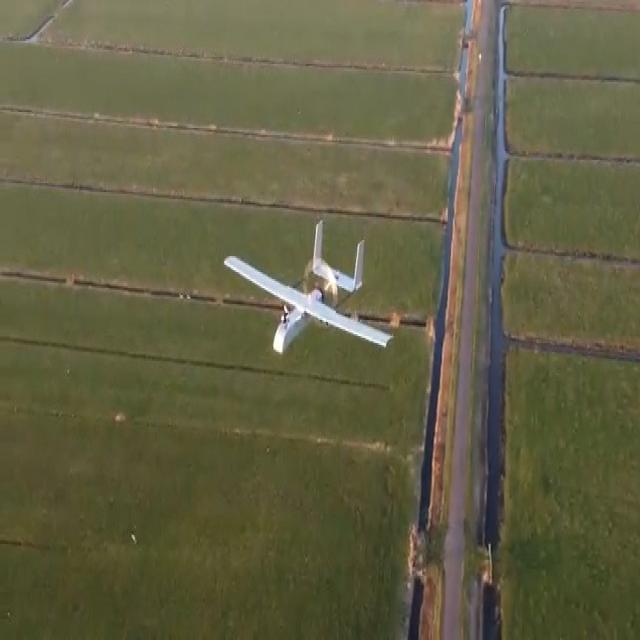iha: (225, 207, 395, 365)
